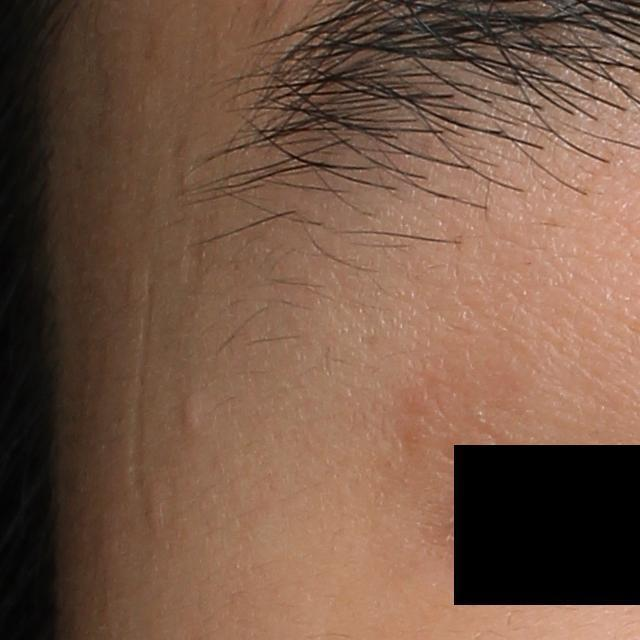comedo: (179, 390, 207, 429)
